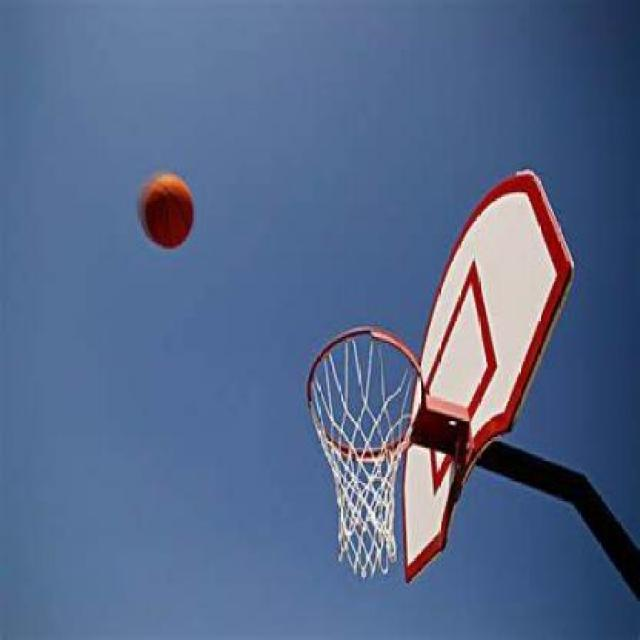basketball: (145, 173, 193, 250)
rim: (308, 327, 424, 578)
